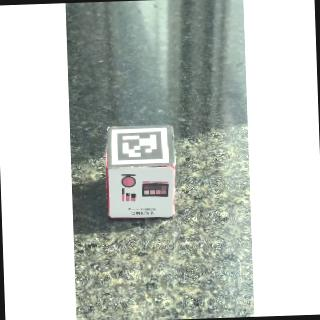Expired_Cosmetic: (106, 159, 181, 224)
